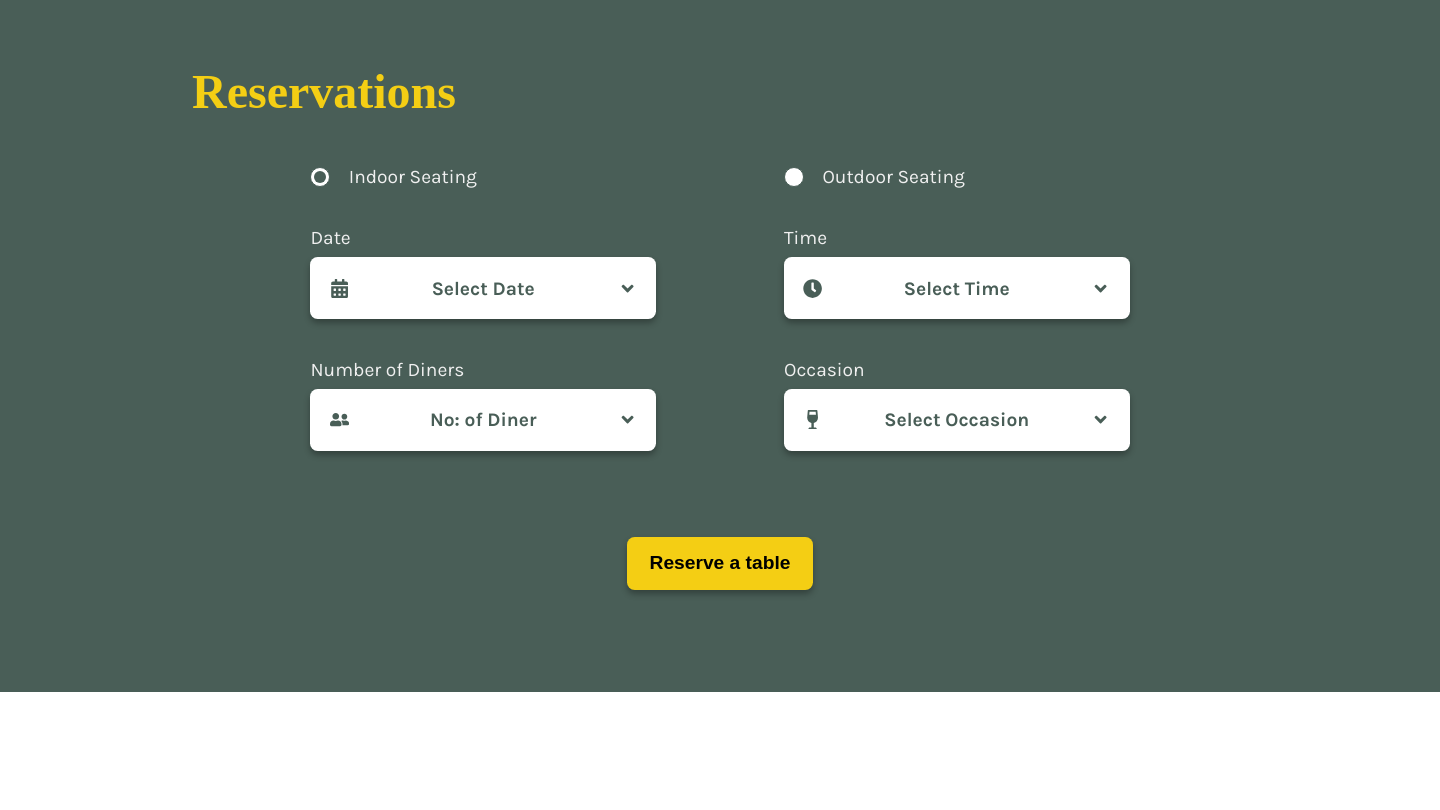
Test: BookingForm › should display the date picker when the date dropdown is clicked
Click the text "Select Date". click: x=483, y=288
box: [432,277,535,300]
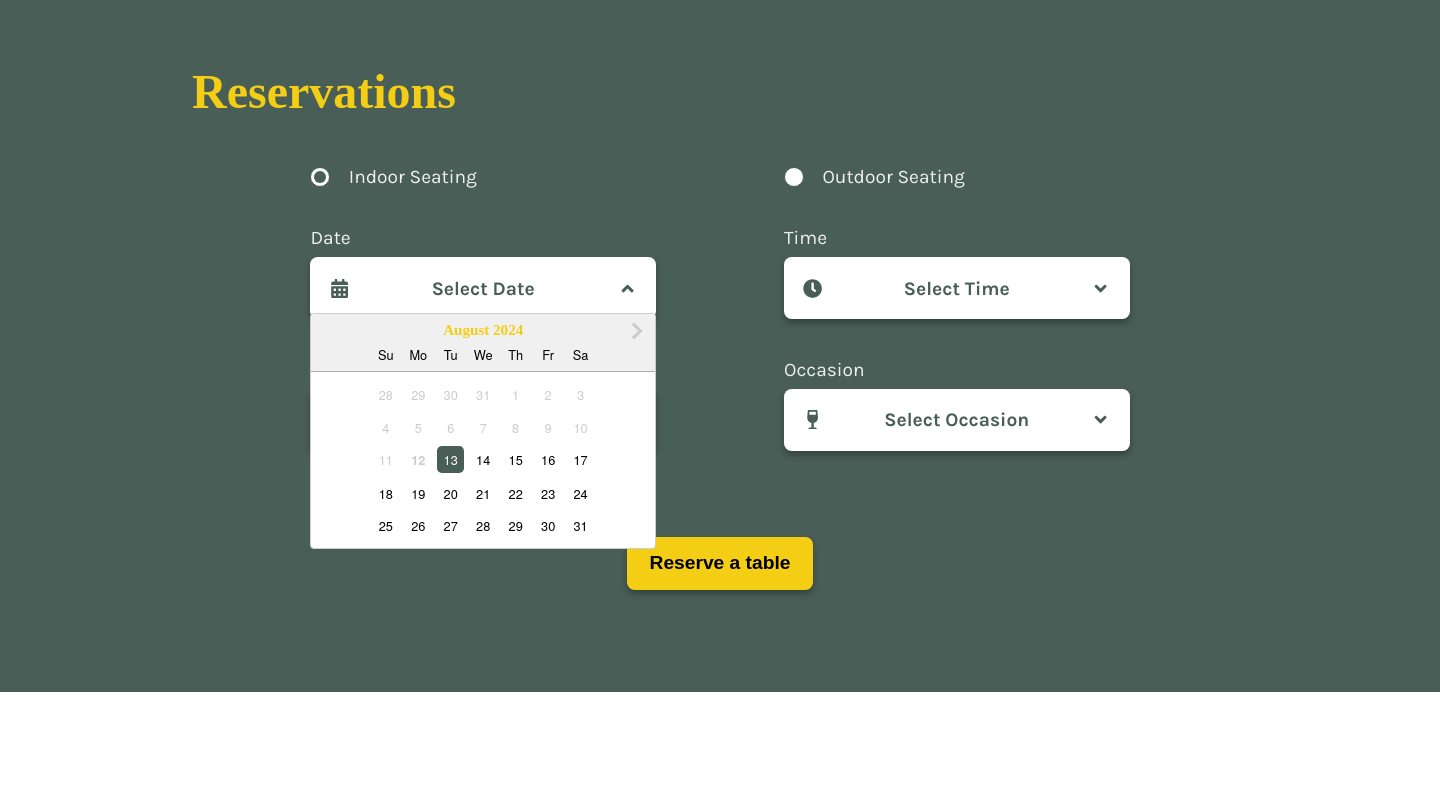
Now the dialog is shown, box [311,314,655,548]
